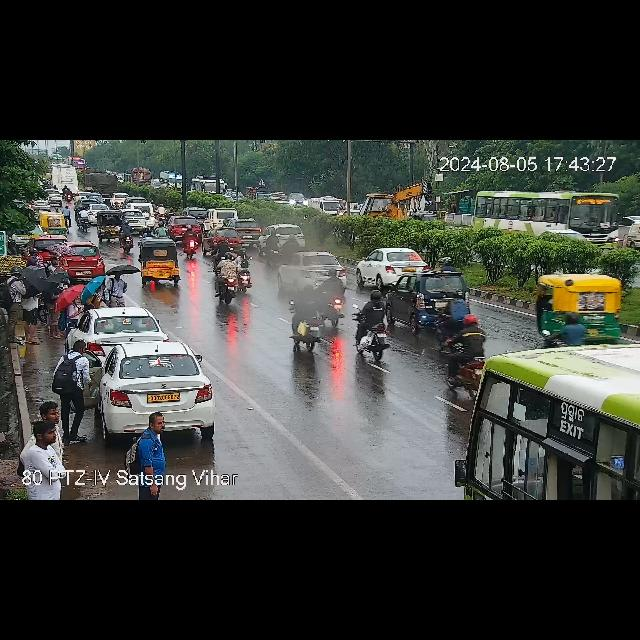bus: (458, 344, 640, 501), (471, 193, 625, 245), (54, 162, 80, 192)
car: (71, 342, 217, 438), (534, 274, 630, 344), (389, 269, 459, 327), (76, 309, 170, 349), (354, 247, 431, 285), (272, 250, 342, 282), (134, 240, 184, 284), (62, 242, 105, 278), (202, 226, 242, 254), (96, 210, 128, 238), (199, 208, 241, 228), (83, 172, 121, 194), (38, 212, 72, 236), (36, 230, 66, 256), (125, 206, 159, 228), (274, 224, 306, 246), (172, 215, 206, 235), (236, 217, 258, 243), (406, 212, 444, 224), (289, 191, 307, 207), (44, 189, 64, 203), (73, 197, 93, 210), (87, 201, 99, 221), (183, 208, 205, 218), (30, 200, 50, 210)
motorcycle: (292, 268, 346, 348), (446, 310, 486, 388), (353, 291, 393, 364), (211, 248, 249, 304), (268, 232, 296, 262), (441, 290, 467, 322), (181, 226, 201, 258), (212, 237, 234, 263), (78, 206, 89, 232), (62, 204, 72, 230), (155, 202, 173, 215), (152, 222, 168, 236), (63, 184, 73, 200), (114, 200, 120, 210)
person: (27, 402, 67, 476), (56, 344, 94, 416), (127, 410, 173, 468), (1, 264, 26, 346), (23, 276, 45, 350), (100, 268, 128, 306), (25, 250, 59, 272), (60, 300, 82, 328), (88, 284, 104, 308)
truck: (358, 180, 432, 217), (312, 200, 342, 216), (130, 167, 152, 187)
